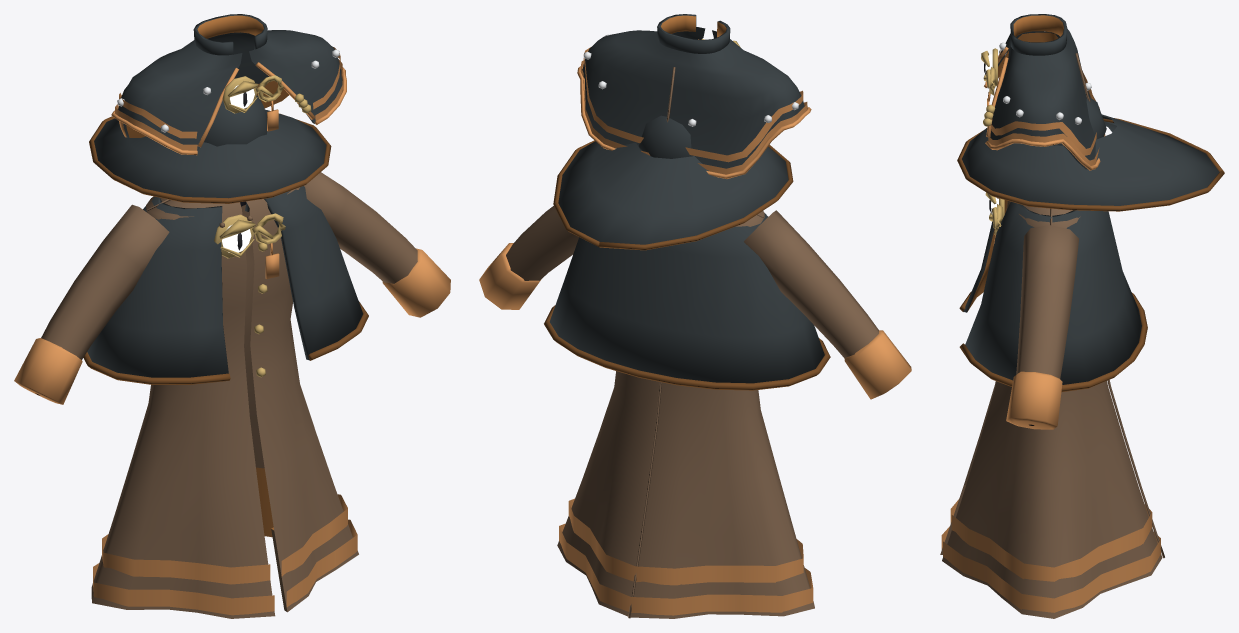
The model's file is coat-oilskin.glb.
3 renders of one model, left to right at view 1: azimuth 30°, elevation 25°; view 2: azimuth 150°, elevation 25°; view 3: azimuth 270°, elevation 25°, orthographic. The views are drawn at different scales.
Parts seen in each view (by area): view 1: coat-oilskin, coat-oilskin_worn; view 2: coat-oilskin, coat-oilskin_worn; view 3: coat-oilskin, coat-oilskin_worn.
Part boxes in pixels (x1,y1,x2,y2): coat-oilskin: (14,95,450,618); coat-oilskin_worn: (111,14,346,155); coat-oilskin: (479,115,911,618); coat-oilskin_worn: (577,14,811,178); coat-oilskin: (940,97,1224,618); coat-oilskin_worn: (981,14,1105,170).
Bounding box in the file's own units: 1.71 × 2.1 × 1.02.
